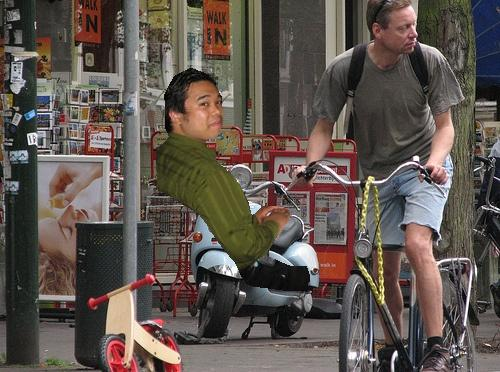tampered: (157, 69, 310, 291)
